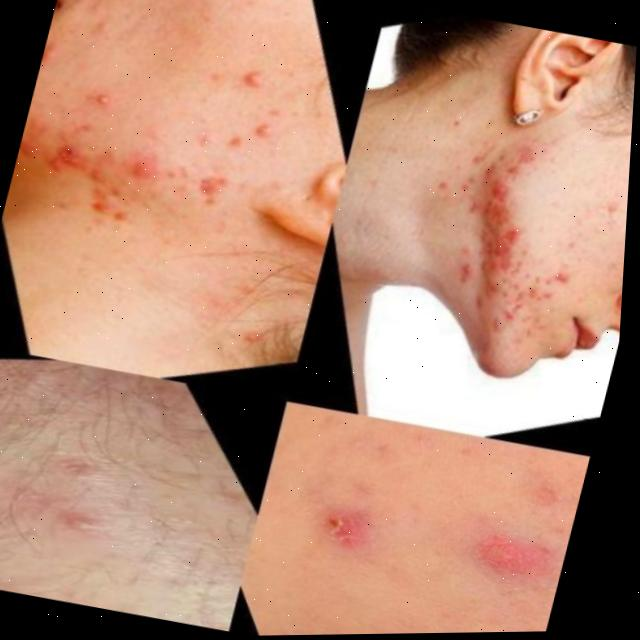Acne: (0, 28, 282, 281), (454, 124, 588, 292), (0, 422, 123, 601), (474, 516, 551, 579), (317, 504, 377, 556)
